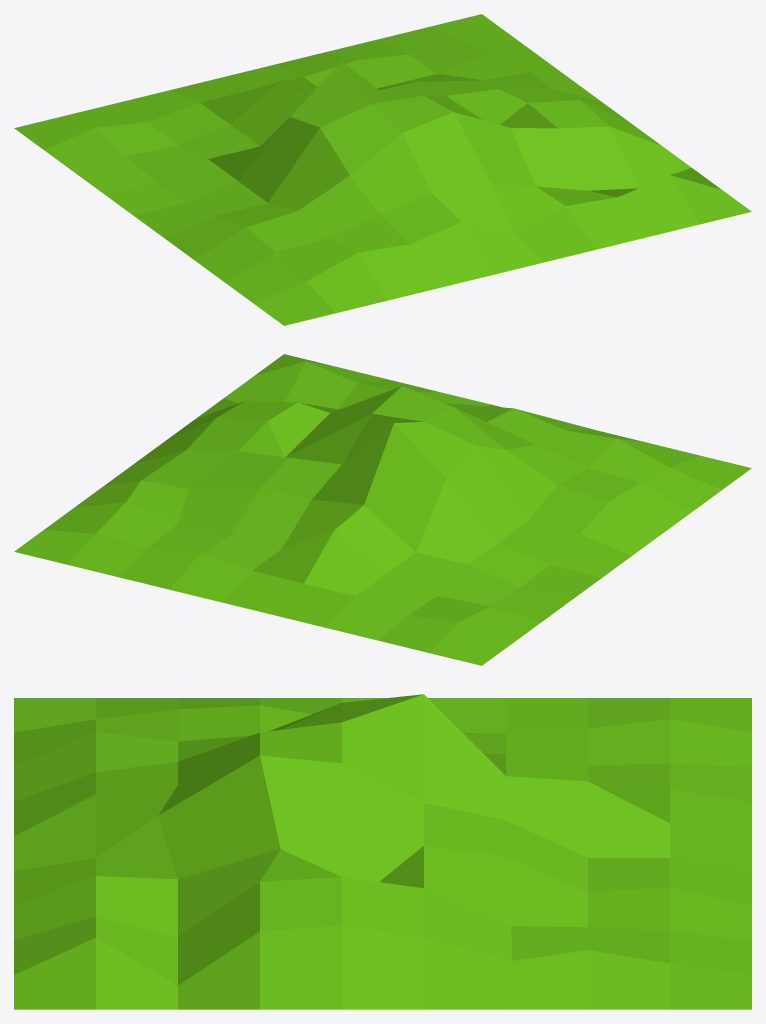
File: hill_002.fbx
The picture shows the model from 3 angles, top to bottom: view 1: azimuth 30°, elevation 25°; view 2: azimuth 150°, elevation 25°; view 3: azimuth 270°, elevation 25°; orthographic projection. The views are drawn at different scales.
Visible parts, largest first — view 1: Grid; view 2: Grid; view 3: Grid.
Boxes of the visible parts, bbox=[...] form: Grid: bbox=[14, 14, 751, 325]; Grid: bbox=[14, 354, 751, 665]; Grid: bbox=[14, 694, 751, 1009].
Size of the model in its own units: 600 by 137 by 600.
